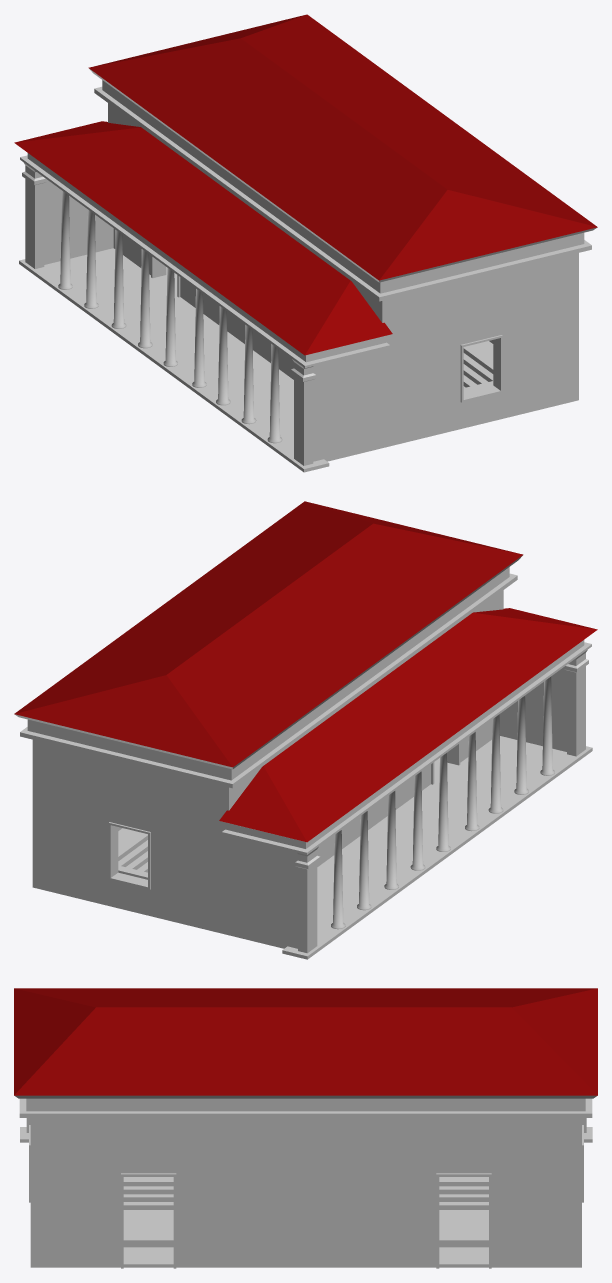
3 views of the same model, one above another, from view 1: azimuth 30°, elevation 25°; view 2: azimuth 150°, elevation 25°; view 3: azimuth 270°, elevation 25° (orthographic).
Visible parts, largest first — view 1: Cube_051; view 2: Cube_051; view 3: Cube_051.
Part boxes in pixels (left/top/right/bottom): Cube_051: left=14, top=14, right=597, bottom=472; Cube_051: left=14, top=501, right=597, bottom=959; Cube_051: left=14, top=988, right=597, bottom=1268.
Size of the model in its own units: 9.53 by 6.79 by 16.37.
